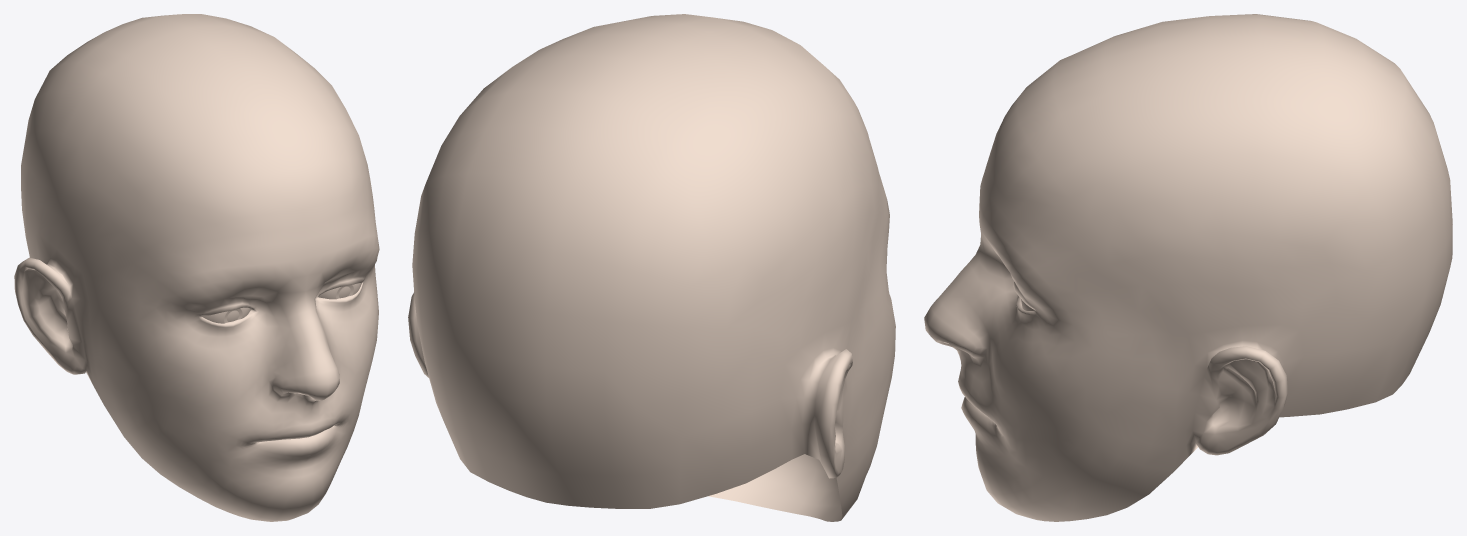
3 renders of one model, left to right at view 1: azimuth 30°, elevation 25°; view 2: azimuth 150°, elevation 25°; view 3: azimuth 270°, elevation 25°, orthographic. The views are drawn at different scales.
Parts seen in each view (by area): view 1: head, eyeLeft; view 2: head; view 3: head.
Boxes of the visible parts, x1,y1,x2,y2 form: head: [14, 14, 379, 521]; eyeLeft: [201, 307, 250, 323]; head: [408, 14, 895, 521]; head: [924, 14, 1452, 521].
Bounding box in the file's own units: 1.9 × 2.34 × 2.36.
